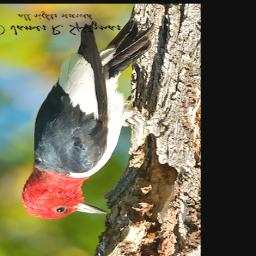Woodpecker: (23, 18, 159, 222)
